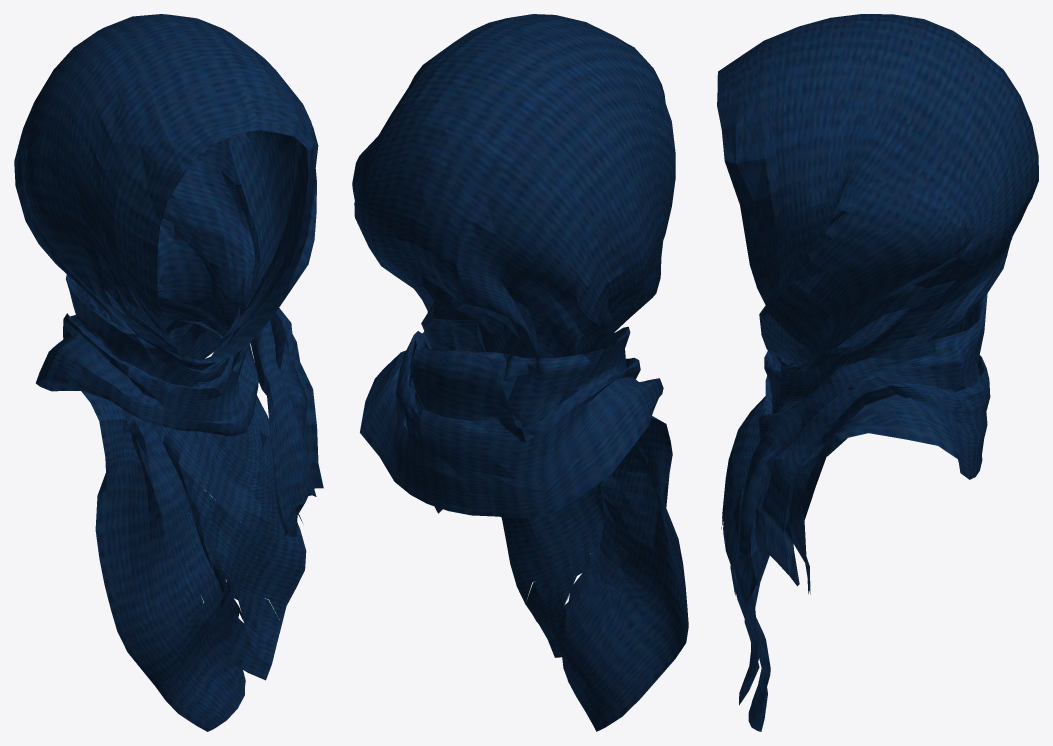
File: new_hijab.fbx
The picture shows the model from 3 angles, left to right: view 1: azimuth 30°, elevation 25°; view 2: azimuth 150°, elevation 25°; view 3: azimuth 270°, elevation 25°; orthographic projection. The views are drawn at different scales.
Parts seen in each view (by area): view 1: hijab-out; view 2: hijab-out; view 3: hijab-out.
Part boxes in pixels (x1,y1,x2,y2): hijab-out: (14,14,323,731); hijab-out: (352,14,688,731); hijab-out: (717,14,1038,731).
Size of the model in its own units: 23.64 by 59.34 by 24.31.
